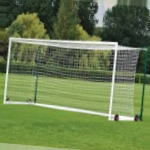goals: (3, 35, 138, 126)
